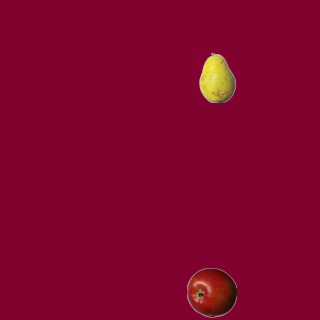Apple Braeburn: (186, 267, 236, 317)
Pear Monster: (192, 52, 242, 102)
